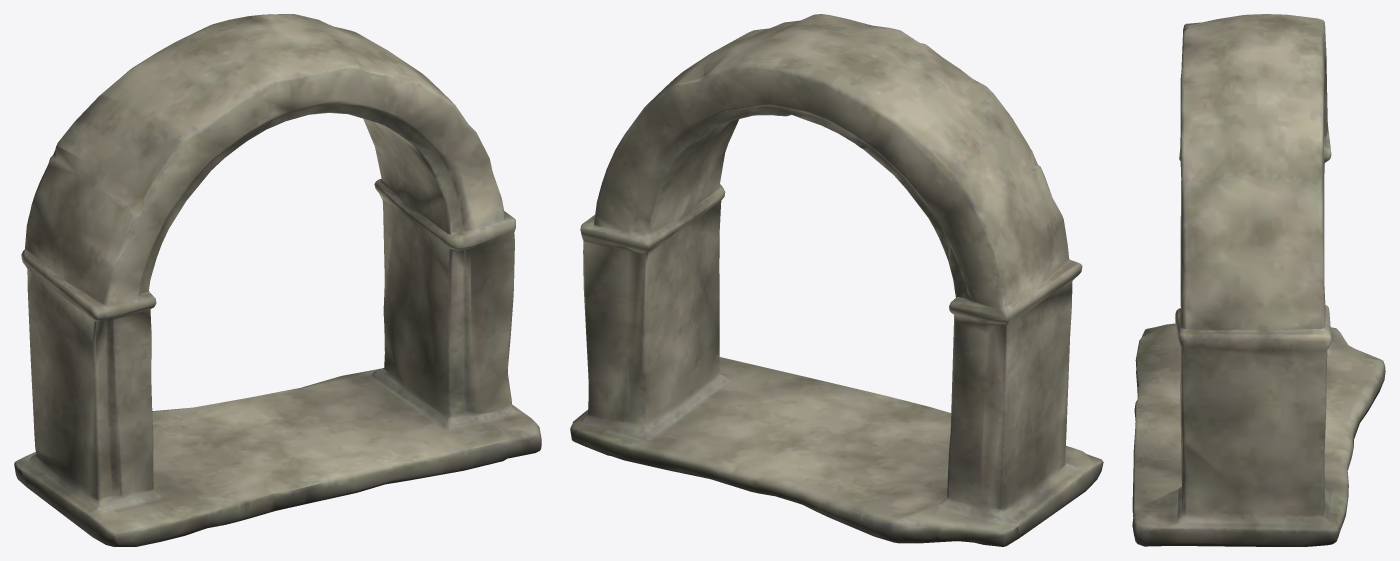
File: old-limestone-street-arch-v001.glb
3 views of the same model, side by side, from view 1: azimuth 30°, elevation 25°; view 2: azimuth 150°, elevation 25°; view 3: azimuth 270°, elevation 25° (orthographic). The views are drawn at different scales.
Parts seen in each view (by area): view 1: old-limestone-street-arch; view 2: old-limestone-street-arch; view 3: old-limestone-street-arch.
Part boxes in pixels (x1,y1,x2,y2): old-limestone-street-arch: (14,14,541,546); old-limestone-street-arch: (570,14,1103,546); old-limestone-street-arch: (1132,14,1385,546).
Bounding box in the file's own units: 3.83 × 3.56 × 2.
1 material, 1 textured.
